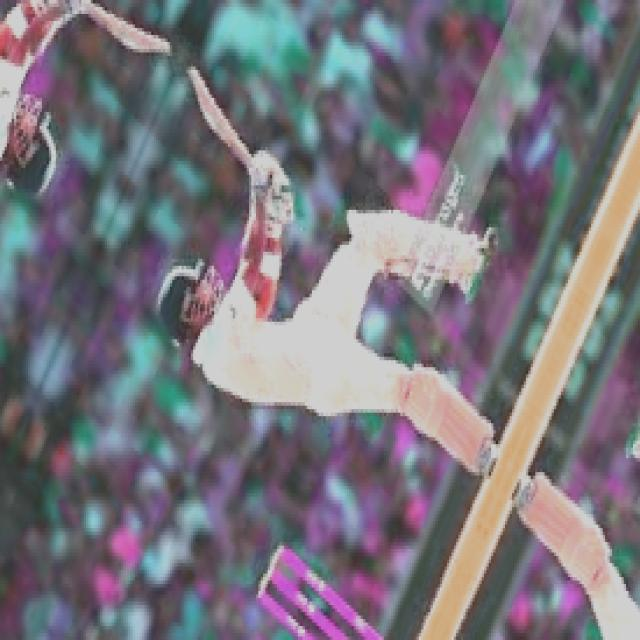toe: (180, 62, 204, 89)
